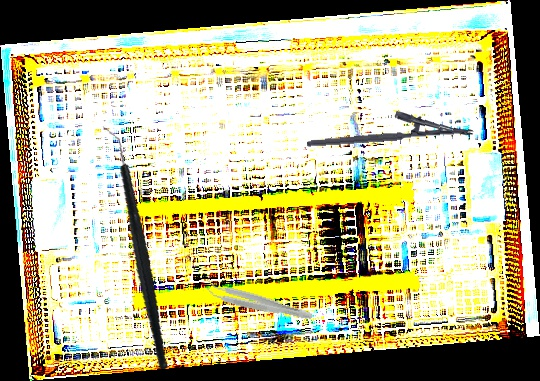Chopper: (66, 124, 204, 370)
Needle Holder: (305, 106, 474, 148)
Tissue Forceps: (204, 279, 315, 324)
